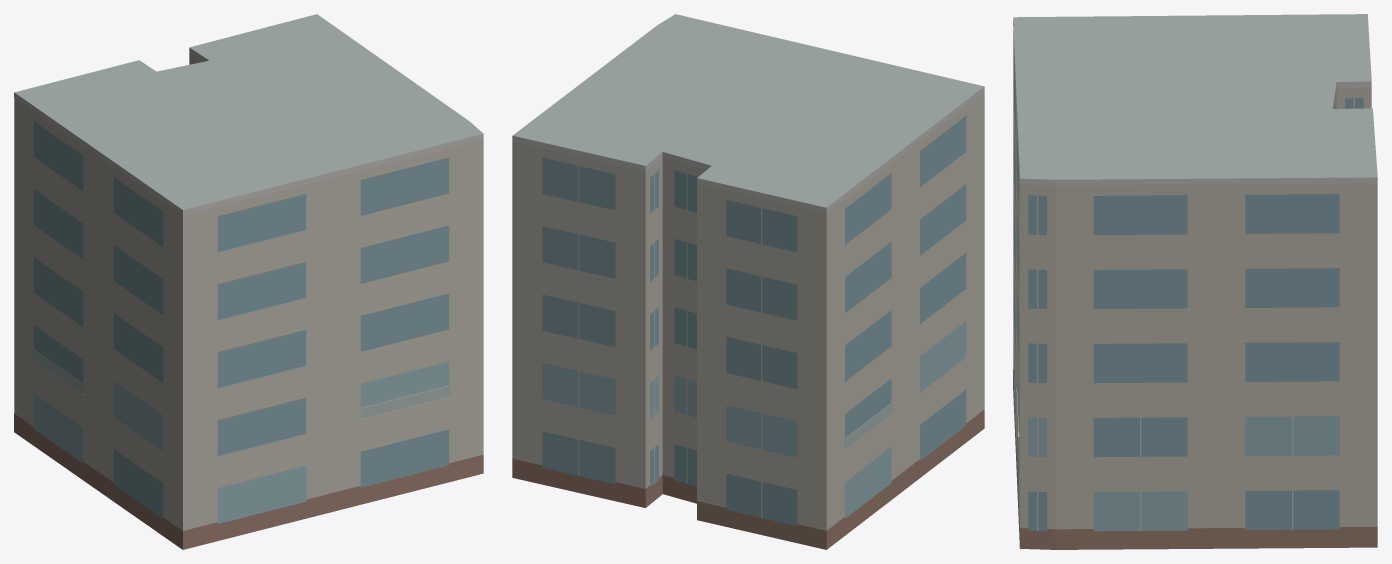
The model's file is survey-upis-32913257.glb.
3 renders of one model, left to right at view 1: azimuth 30°, elevation 25°; view 2: azimuth 150°, elevation 25°; view 3: azimuth 270°, elevation 25°, orthographic. The views are drawn at different scales.
Parts seen in each view (by area): view 1: survey-upis-32913257.tmp; view 2: survey-upis-32913257.tmp; view 3: survey-upis-32913257.tmp.
Part boxes in pixels (x1,y1,x2,y2): survey-upis-32913257.tmp: (14,14,483,549); survey-upis-32913257.tmp: (512,14,984,549); survey-upis-32913257.tmp: (1013,14,1377,549).
Size of the model in its own units: 14.66 by 15.25 by 13.63.
